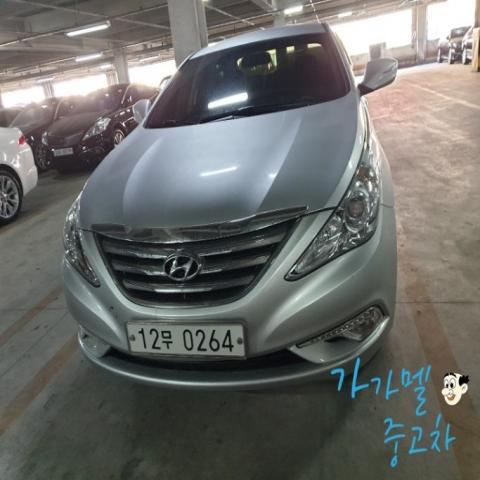LP: (118, 310, 254, 367)
